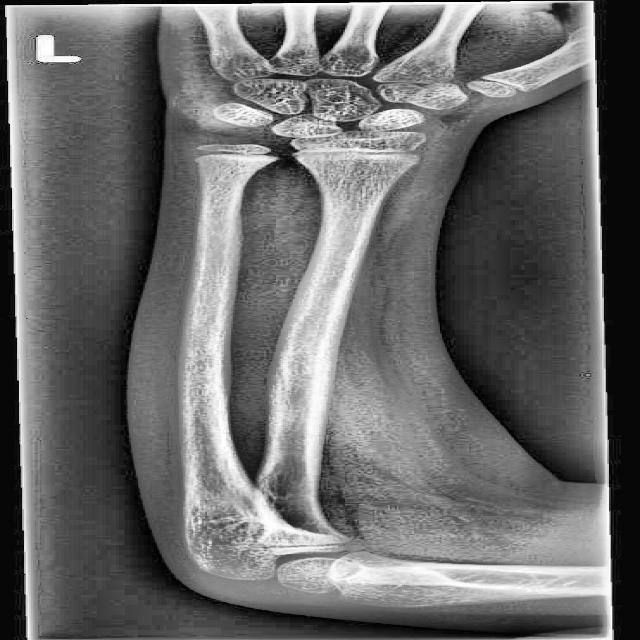fracture: (184, 511, 266, 528)
